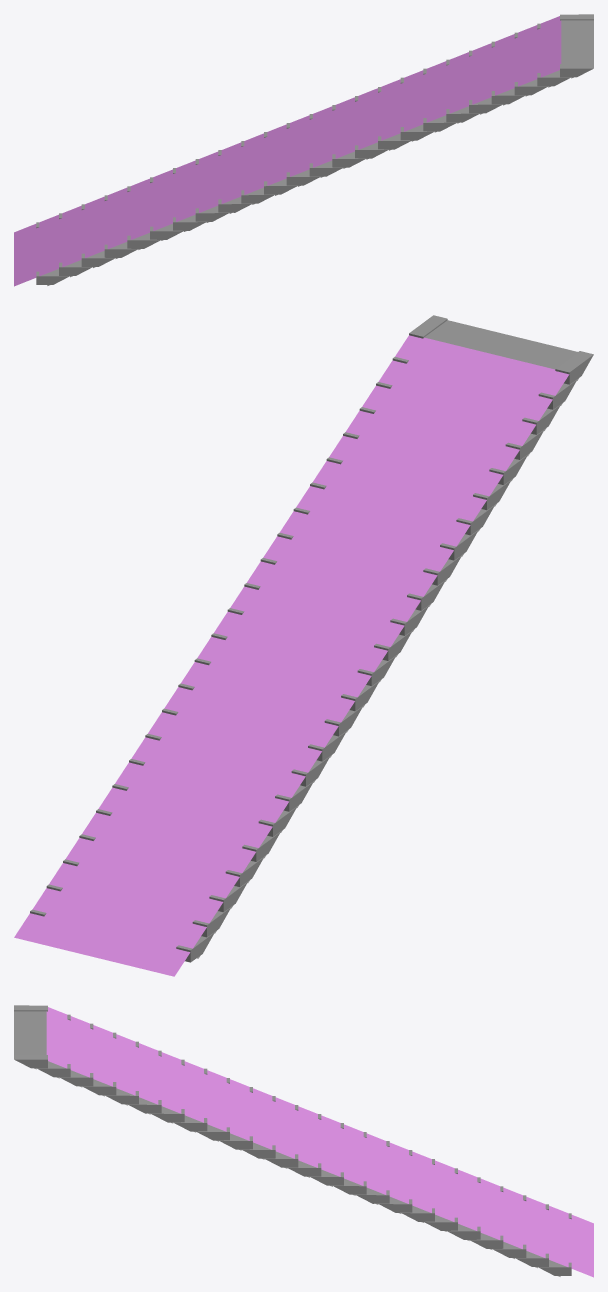
File: CollisionMesh.fbx
The picture shows the model from 3 angles, top to bottom: view 1: azimuth 90°, elevation 25°; view 2: azimuth 150°, elevation 25°; view 3: azimuth 270°, elevation 25°; orthographic projection. The views are drawn at different scales.
Parts seen in each view (by area): view 1: CollisionMesh_StairSlope, CollisionMesh_Stair; view 2: CollisionMesh_StairSlope, CollisionMesh_Stair; view 3: CollisionMesh_StairSlope, CollisionMesh_Stair.
Boxes of the visible parts, left/top/right/bottom form: CollisionMesh_StairSlope: left=14, top=16, right=561, bottom=286; CollisionMesh_Stair: left=36, top=14, right=593, bottom=285; CollisionMesh_StairSlope: left=14, top=335, right=569, bottom=976; CollisionMesh_Stair: left=30, top=315, right=593, bottom=962; CollisionMesh_StairSlope: left=46, top=1007, right=593, bottom=1277; CollisionMesh_Stair: left=14, top=1005, right=571, bottom=1276.
Bounding box in the file's own units: 2.25 × 4.22 × 10.18.
